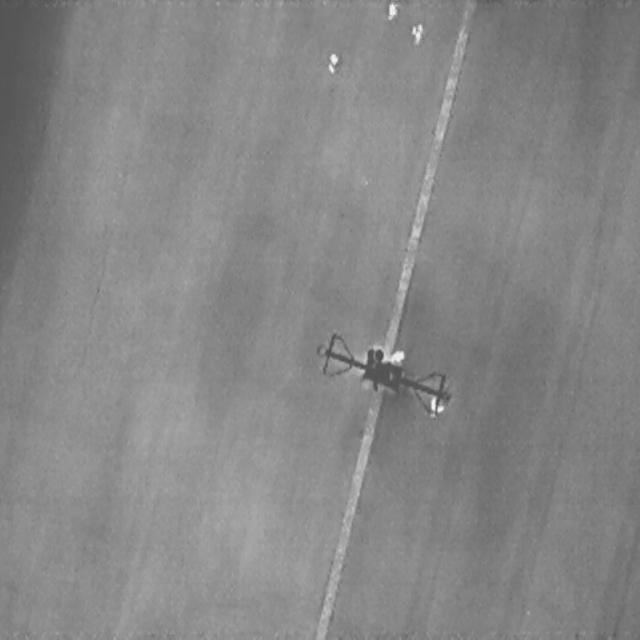Person: (324, 48, 339, 74), (428, 395, 444, 419), (384, 0, 398, 20), (388, 347, 406, 362), (410, 23, 422, 45)
